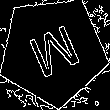M_SE: (22, 19, 84, 84)
